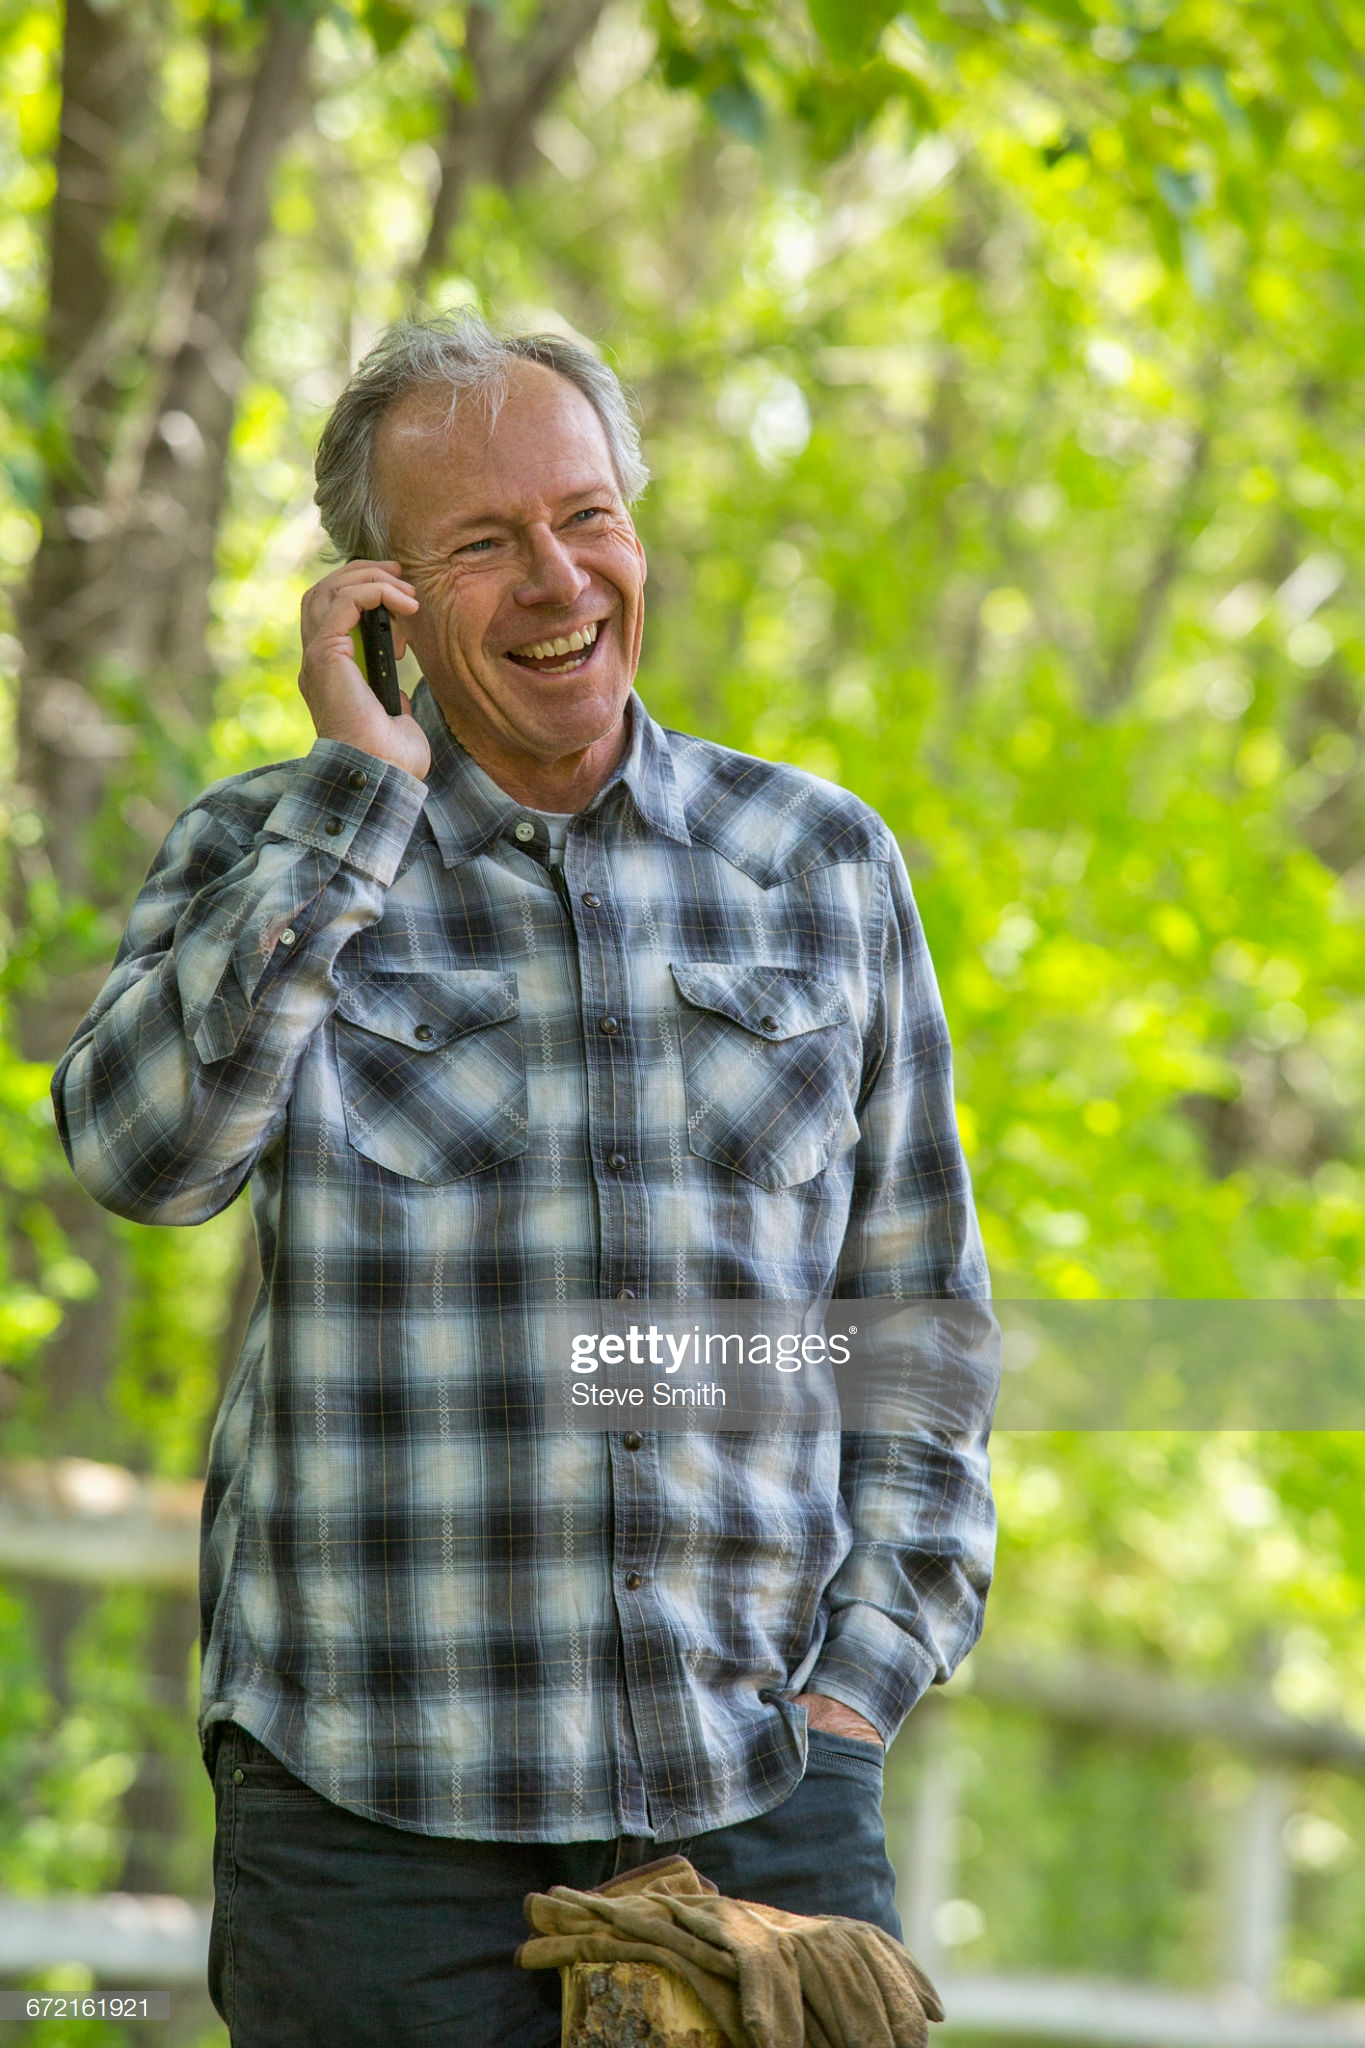phone: (334, 513, 430, 786)
talk: (276, 478, 660, 760)
